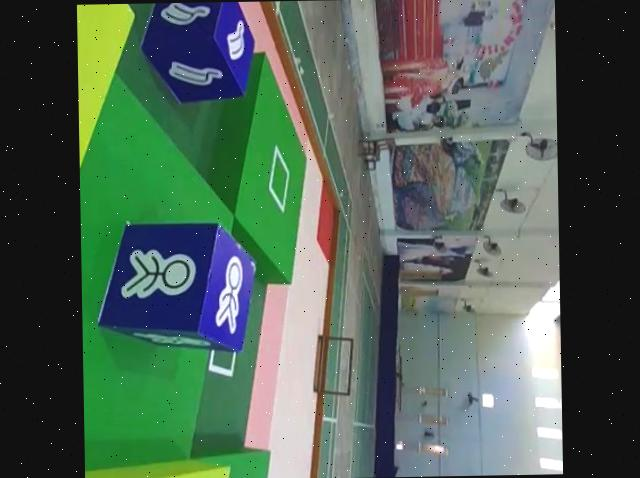R2 Real Blue: (94, 220, 258, 355), (136, 1, 255, 104)
